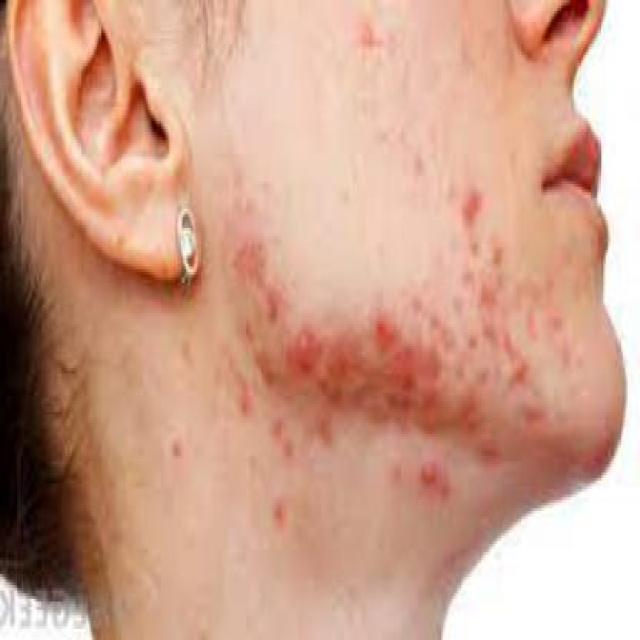papules: (454, 173, 492, 236), (417, 453, 441, 497)
pustules: (291, 313, 320, 363)
